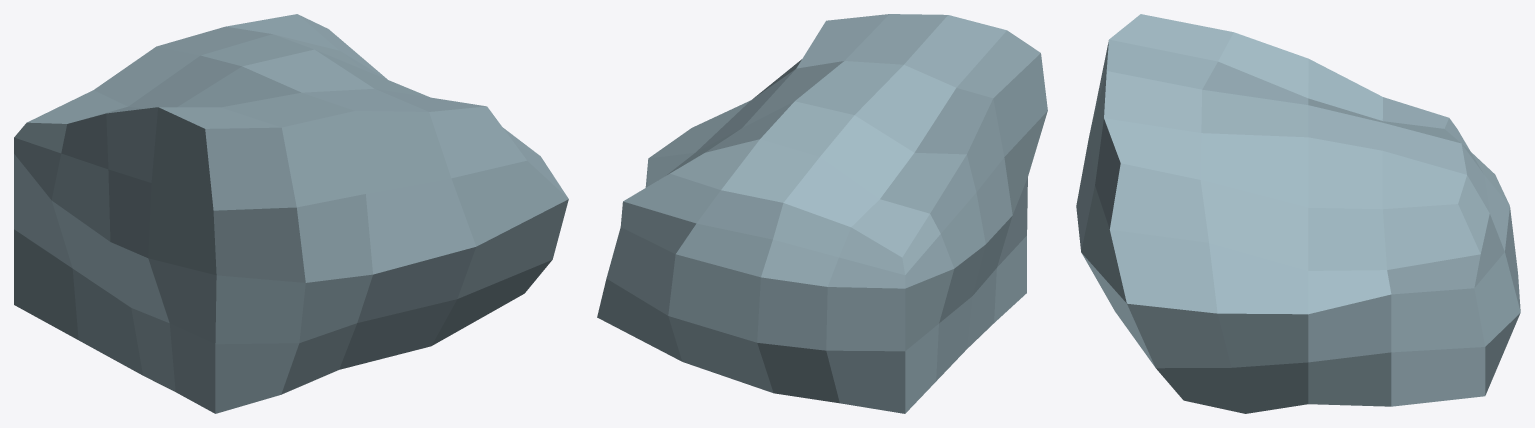
The model's file is Dat155Rock.glb.
The picture shows the model from 3 angles, left to right: view 1: azimuth 30°, elevation 25°; view 2: azimuth 150°, elevation 25°; view 3: azimuth 270°, elevation 25°; orthographic projection. The views are drawn at different scales.
Parts seen in each view (by area): view 1: Cube.001; view 2: Cube.001; view 3: Cube.001.
Part boxes in pixels (box(x1,y1,x2,y2)): Cube.001: box(14, 14, 568, 413); Cube.001: box(597, 14, 1047, 413); Cube.001: box(1076, 14, 1520, 413).
Bounding box in the file's own units: 2.8 × 2.12 × 2.99.
